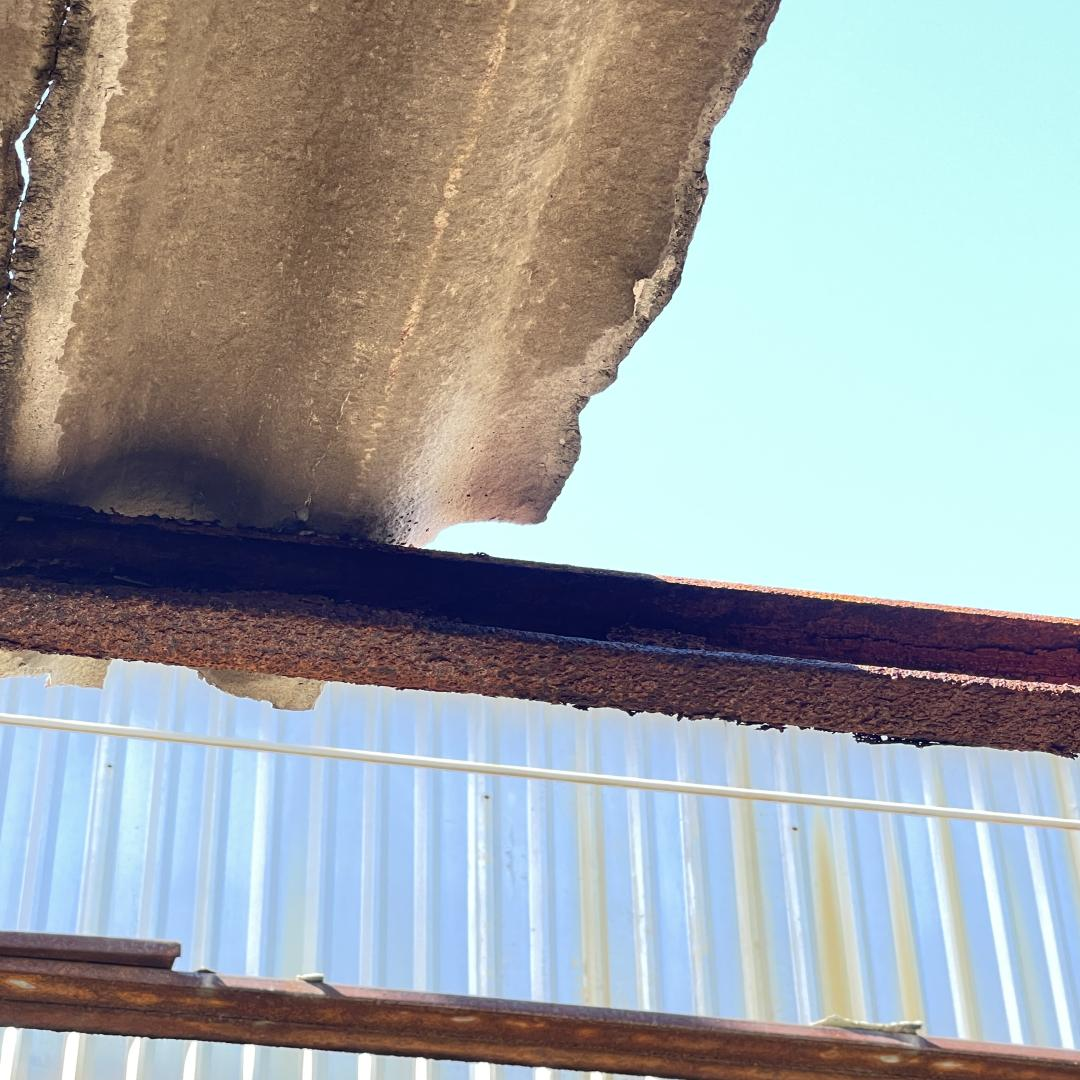Metal corroido: (0, 492, 1080, 763), (0, 932, 1080, 1080)
